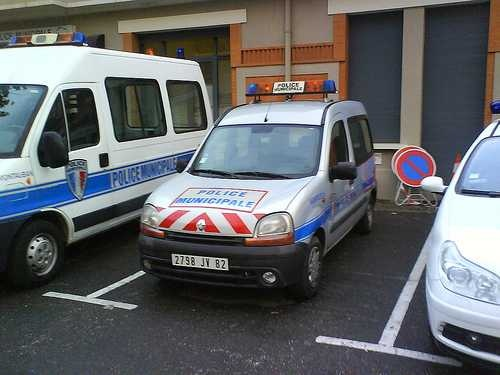Police Car: (166, 72, 375, 297), (429, 92, 500, 361)
Police Van: (2, 32, 226, 279)
